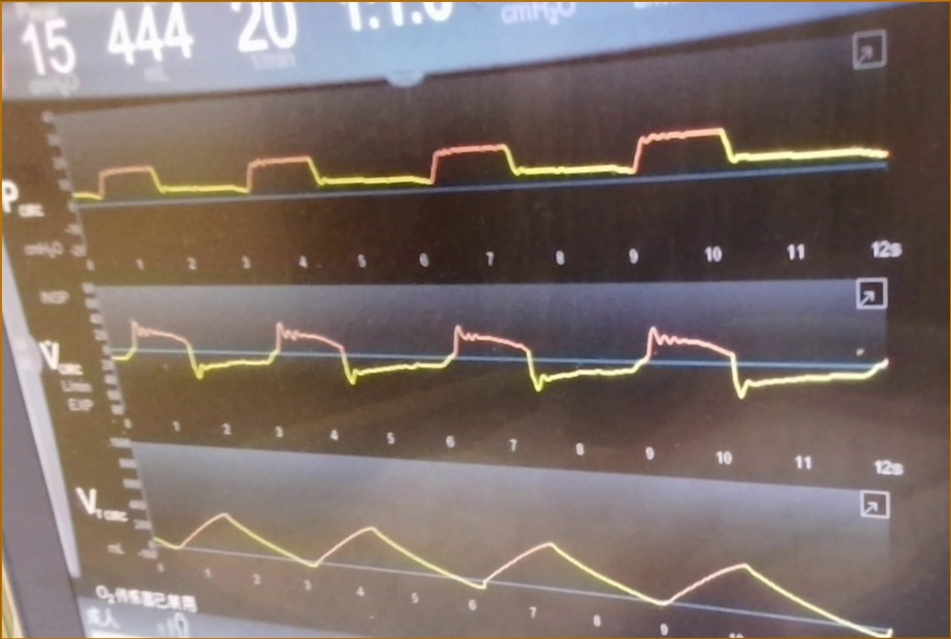Accumulation Flow: (114, 291, 883, 407)
Volume: (150, 500, 890, 628)
